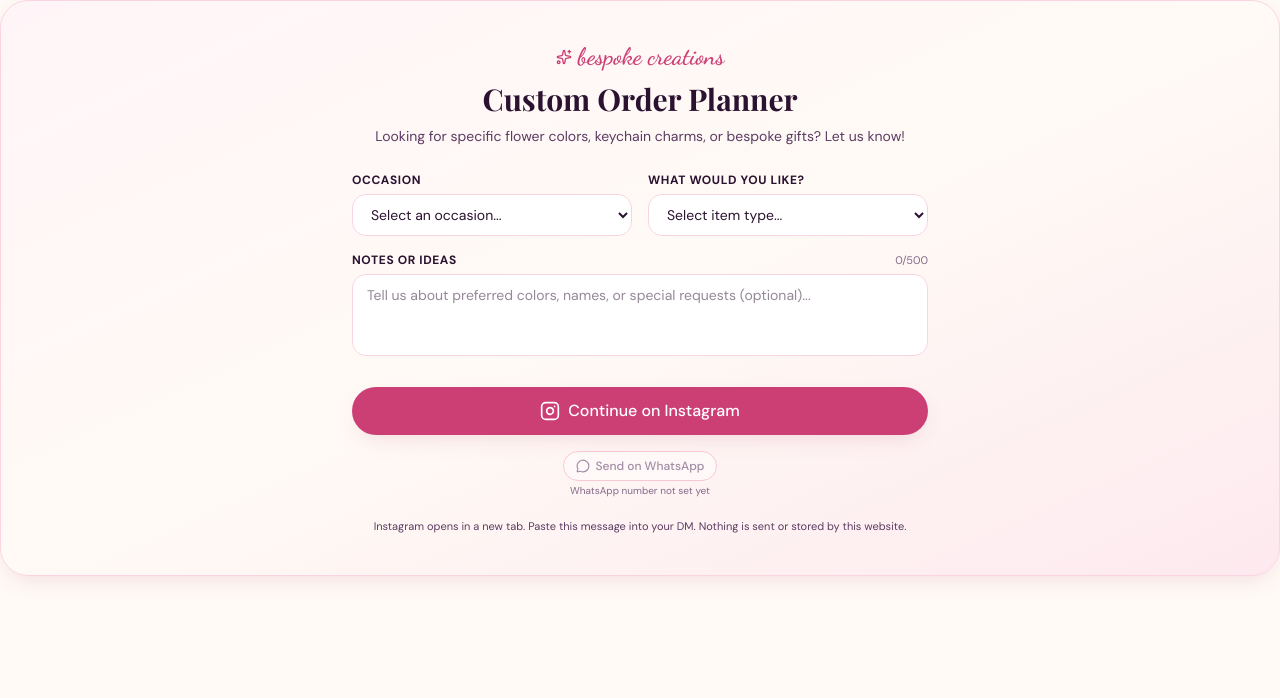
CustomOrderPlanner form › submitting opens the DM URL, displays the readable message, and never says 'sent' automatically
Select "Birthday" in the dropdown labelled "Occasion" at (492, 215), box [352,194,632,236]
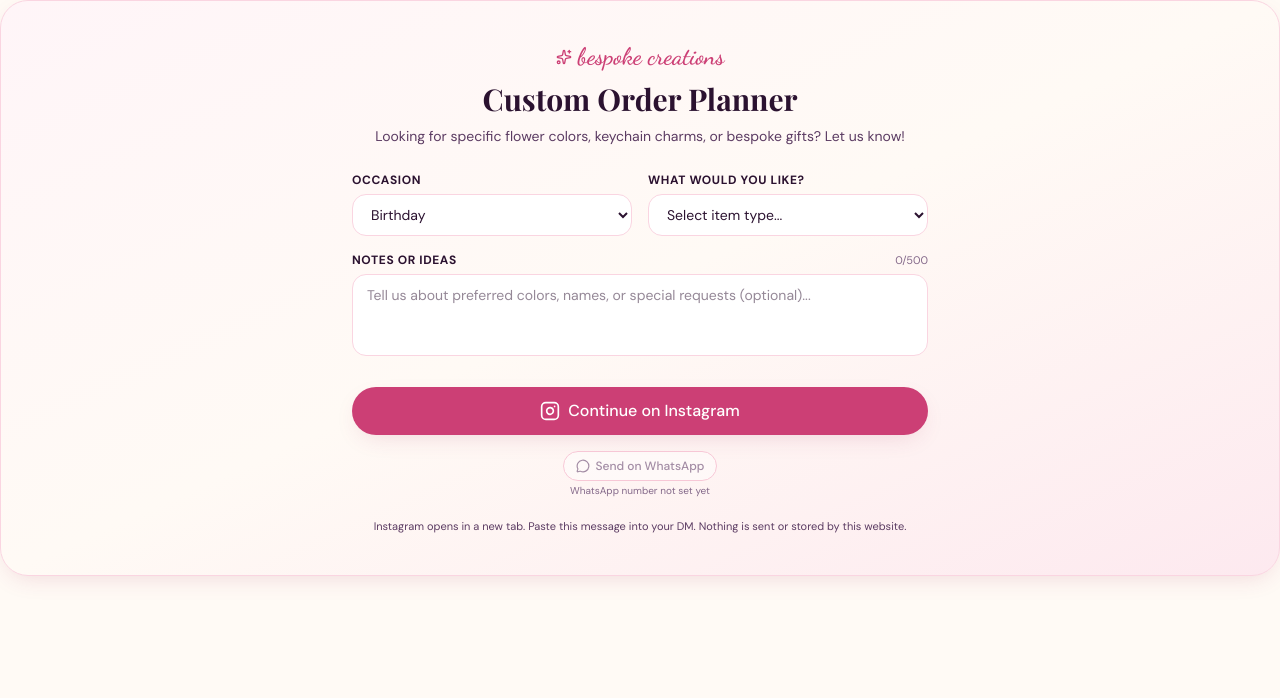
Select "Flowers" in the dropdown labelled "What would you like?" at (788, 215), box [648,194,928,236]
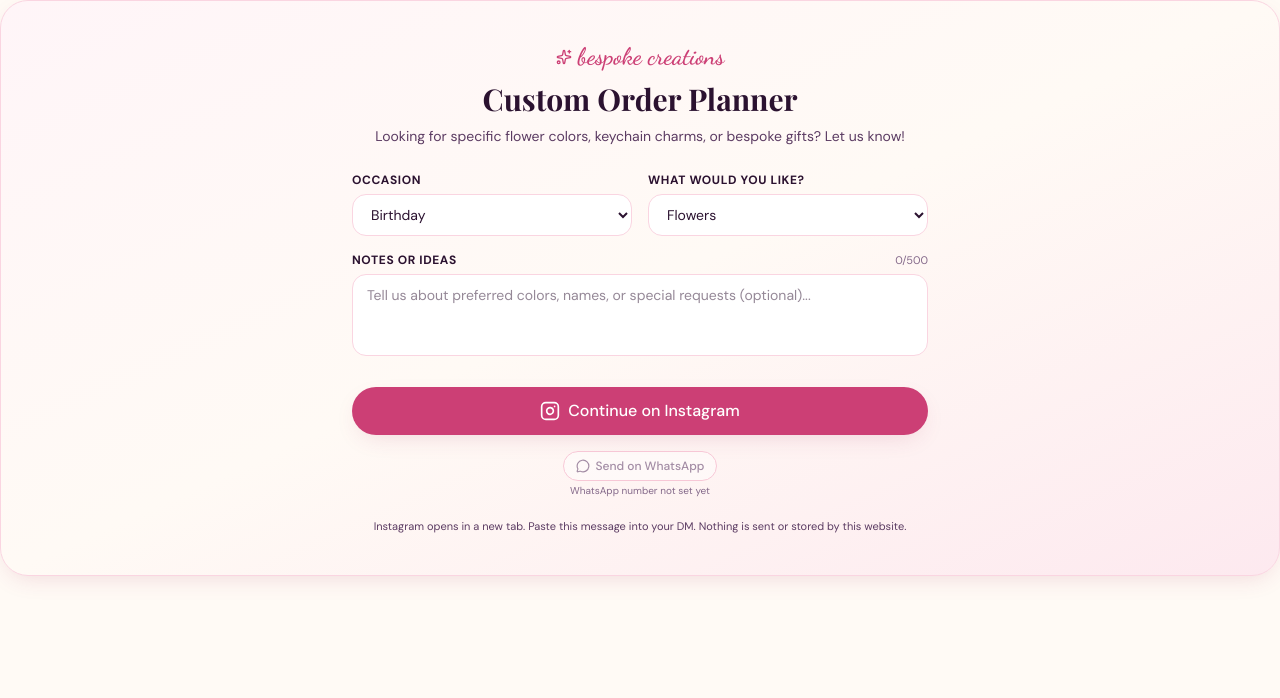
Replace the text in the text box labelled "Notes or ideas" with "Pastel peach tone preferred" at (640, 315), box [352,274,928,356]
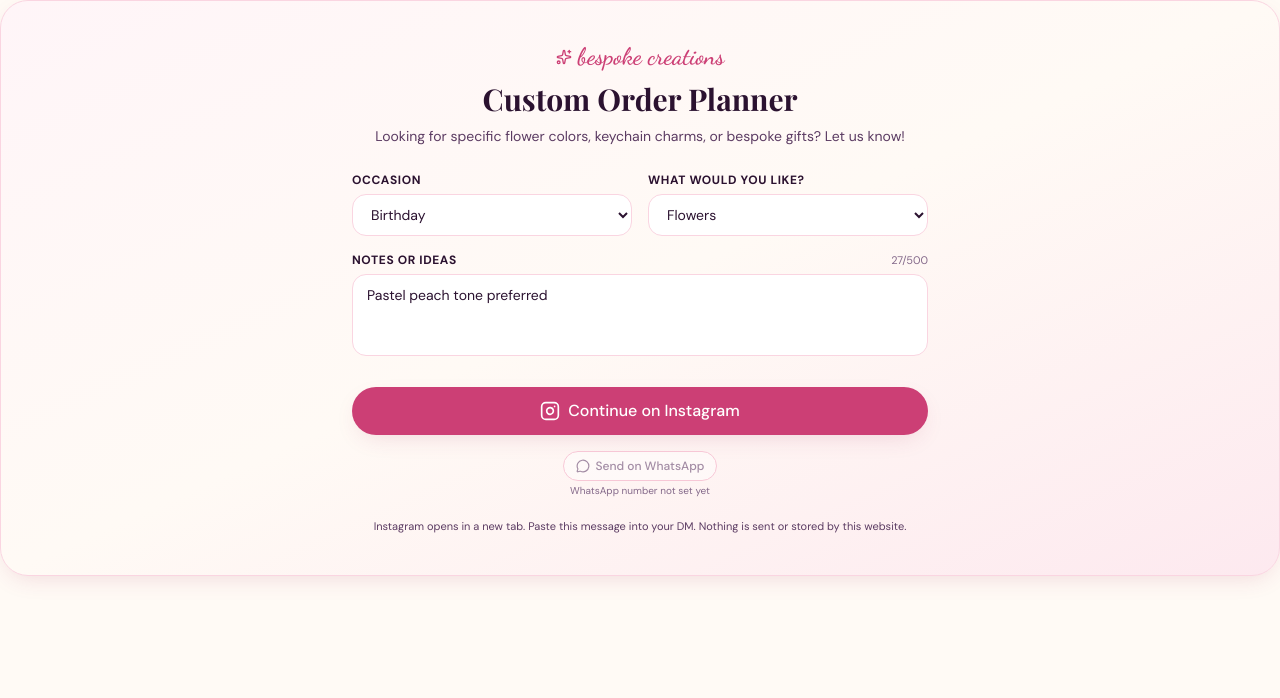
Click the button "Continue on Instagram" at (640, 411), box [352,387,928,435]
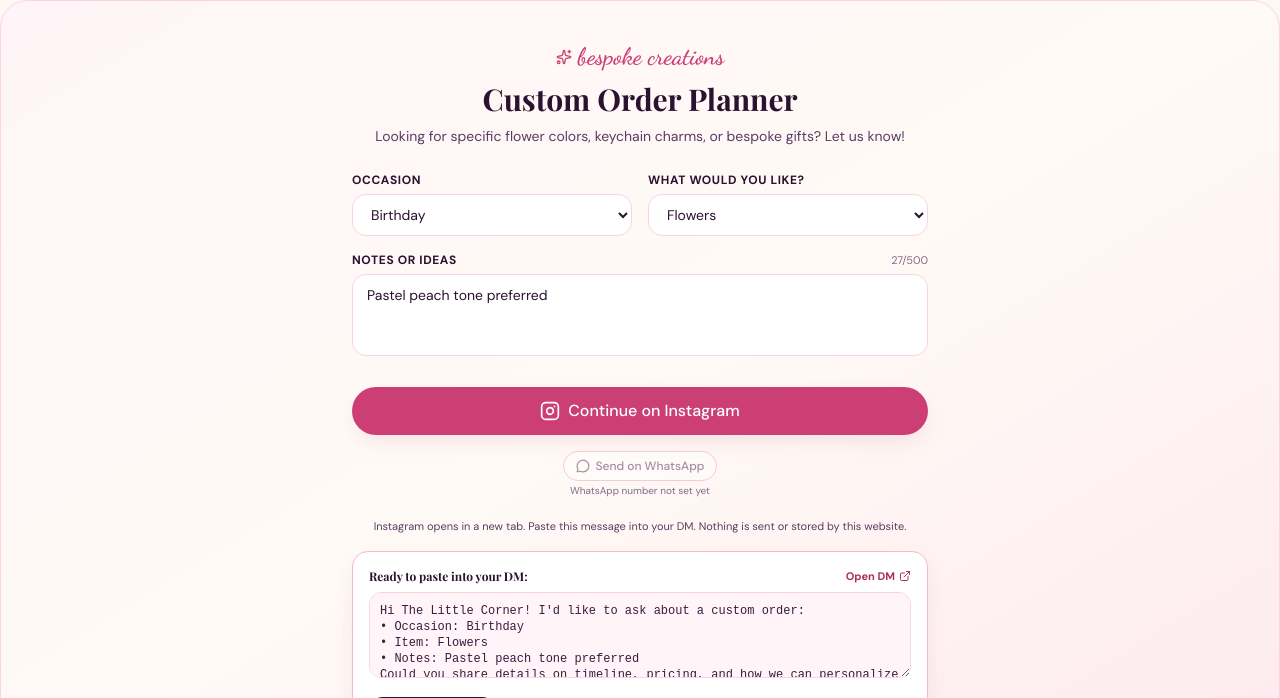
Expected: the text "Paste this message into your DM. Nothing is sent or stored by this website." is shown, [374,519,906,533]
Expected: the text "Ready to paste into your DM:" is shown, [369,568,528,584]
